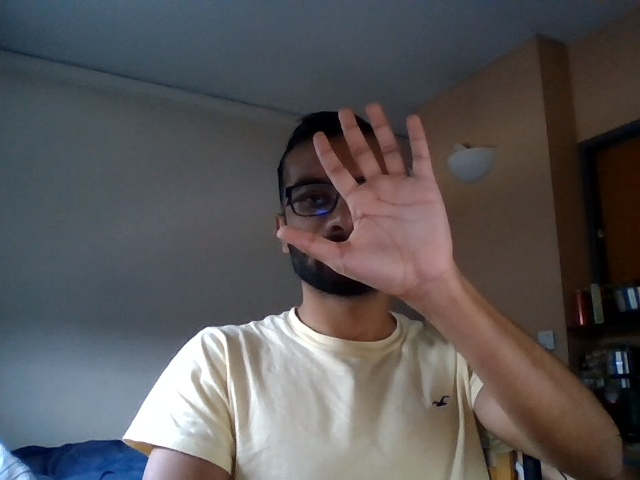Hello: (268, 102, 468, 290)
